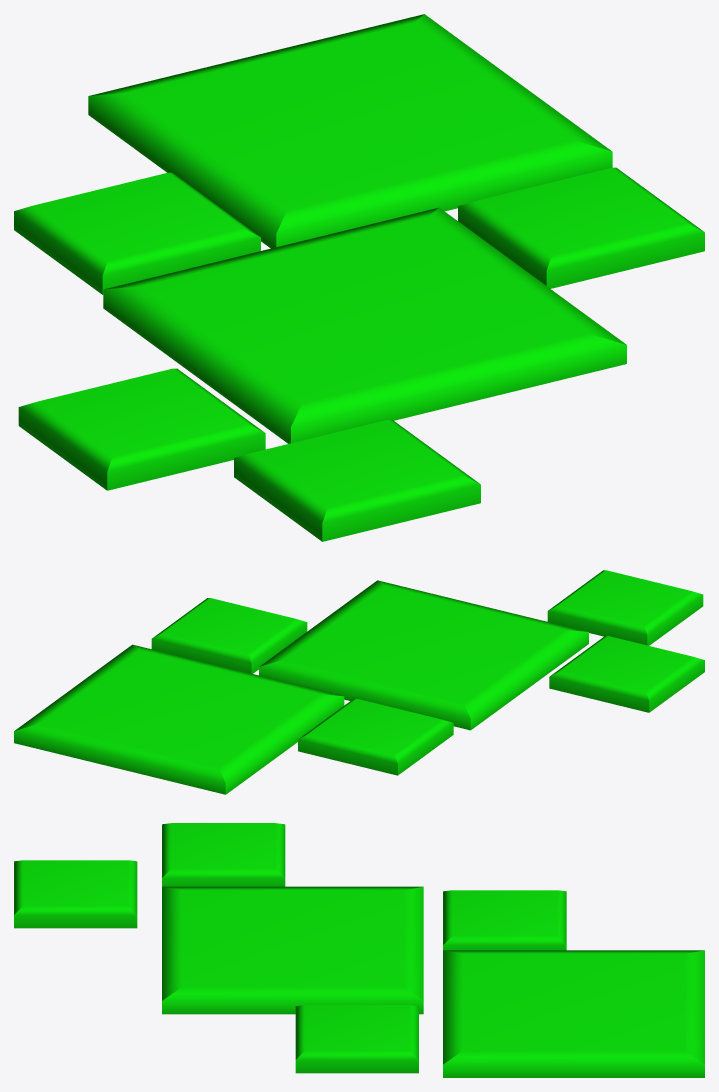
The model's file is m_rubble3.fbx.
3 renders of one model, top to bottom at view 1: azimuth 30°, elevation 25°; view 2: azimuth 150°, elevation 25°; view 3: azimuth 270°, elevation 25°, orthographic. The views are drawn at different scales.
Visible parts, largest first — view 1: m_rubble3; view 2: m_rubble3; view 3: m_rubble3.
Part boxes in pixels (x1,y1,x2,y2): m_rubble3: (14,14,704,541); m_rubble3: (14,570,704,794); m_rubble3: (14,823,704,1077).
Size of the model in its own units: 2.17 by 0.0774 by 2.64.
